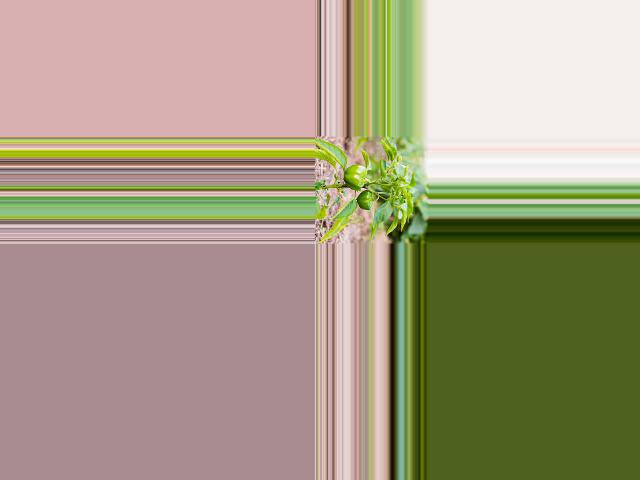bell_pepper: (355, 190, 375, 211)
